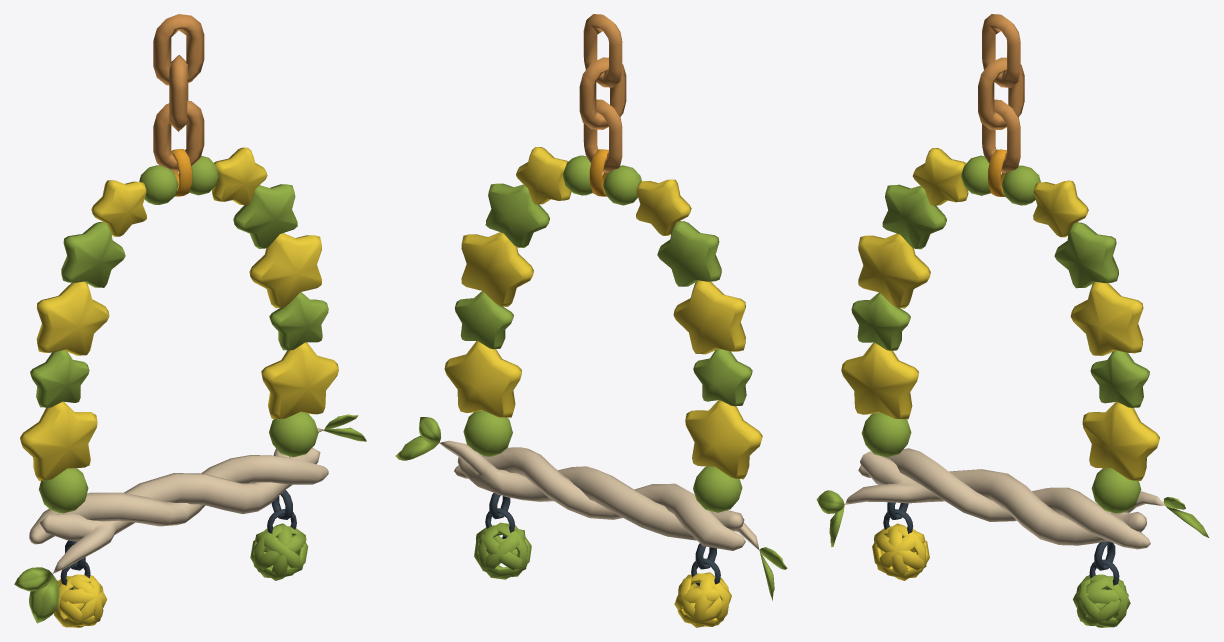
The model's file is SM_BirdSwing.fbx.
3 views of the same model, side by side, from view 1: azimuth 30°, elevation 25°; view 2: azimuth 150°, elevation 25°; view 3: azimuth 330°, elevation 25° (orthographic).
Parts seen in each view (by area): view 1: SM_BirdSwingStars, SM_BirdSwingLog, SM_BirdSwingChain, SM_BirdSwingRubberballs, SM_BirdSwingBottomSphere, SM_BirdSwingLeaves, SM_BirdSwingTopSphere, SM_BirdSwingRings, SM_BirdSwingTopRing; view 2: SM_BirdSwingStars, SM_BirdSwingLog, SM_BirdSwingChain, SM_BirdSwingRubberballs, SM_BirdSwingBottomSphere, SM_BirdSwingTopSphere, SM_BirdSwingLeaves, SM_BirdSwingRings, SM_BirdSwingTopRing; view 3: SM_BirdSwingStars, SM_BirdSwingLog, SM_BirdSwingChain, SM_BirdSwingRubberballs, SM_BirdSwingBottomSphere, SM_BirdSwingTopSphere, SM_BirdSwingLeaves, SM_BirdSwingRings, SM_BirdSwingTopRing.
Boxes of the visible parts, <box> form: SM_BirdSwingStars: <box>20,147,338,480</box>; SM_BirdSwingLog: <box>29,427,328,573</box>; SM_BirdSwingChain: <box>153,14,204,172</box>; SM_BirdSwingRubberballs: <box>53,523,308,627</box>; SM_BirdSwingBottomSphere: <box>38,412,318,513</box>; SM_BirdSwingLeaves: <box>14,414,366,623</box>; SM_BirdSwingTopSphere: <box>139,155,218,204</box>; SM_BirdSwingRings: <box>60,490,296,589</box>; SM_BirdSwingTopRing: <box>172,149,192,196</box>; SM_BirdSwingStars: <box>444,147,762,479</box>; SM_BirdSwingLog: <box>439,440,759,550</box>; SM_BirdSwingChain: <box>579,14,626,172</box>; SM_BirdSwingRubberballs: <box>474,522,731,627</box>; SM_BirdSwingBottomSphere: <box>463,410,742,512</box>; SM_BirdSwingTopSphere: <box>562,155,641,205</box>; SM_BirdSwingLeaves: <box>395,417,787,600</box>; SM_BirdSwingRings: <box>485,493,720,586</box>; SM_BirdSwingTopRing: <box>589,149,608,196</box>; SM_BirdSwingStars: <box>841,148,1159,480</box>; SM_BirdSwingLog: <box>845,448,1165,549</box>; SM_BirdSwingChain: <box>978,14,1024,172</box>; SM_BirdSwingRubberballs: <box>872,523,1130,627</box>; SM_BirdSwingBottomSphere: <box>861,412,1141,513</box>; SM_BirdSwingTopSphere: <box>961,155,1040,205</box>; SM_BirdSwingLeaves: <box>816,490,1208,547</box>; SM_BirdSwingRings: <box>883,502,1119,589</box>; SM_BirdSwingTopRing: <box>988,149,1006,196</box>.
Size of the model in its own units: 94.67 by 143 by 17.44.
